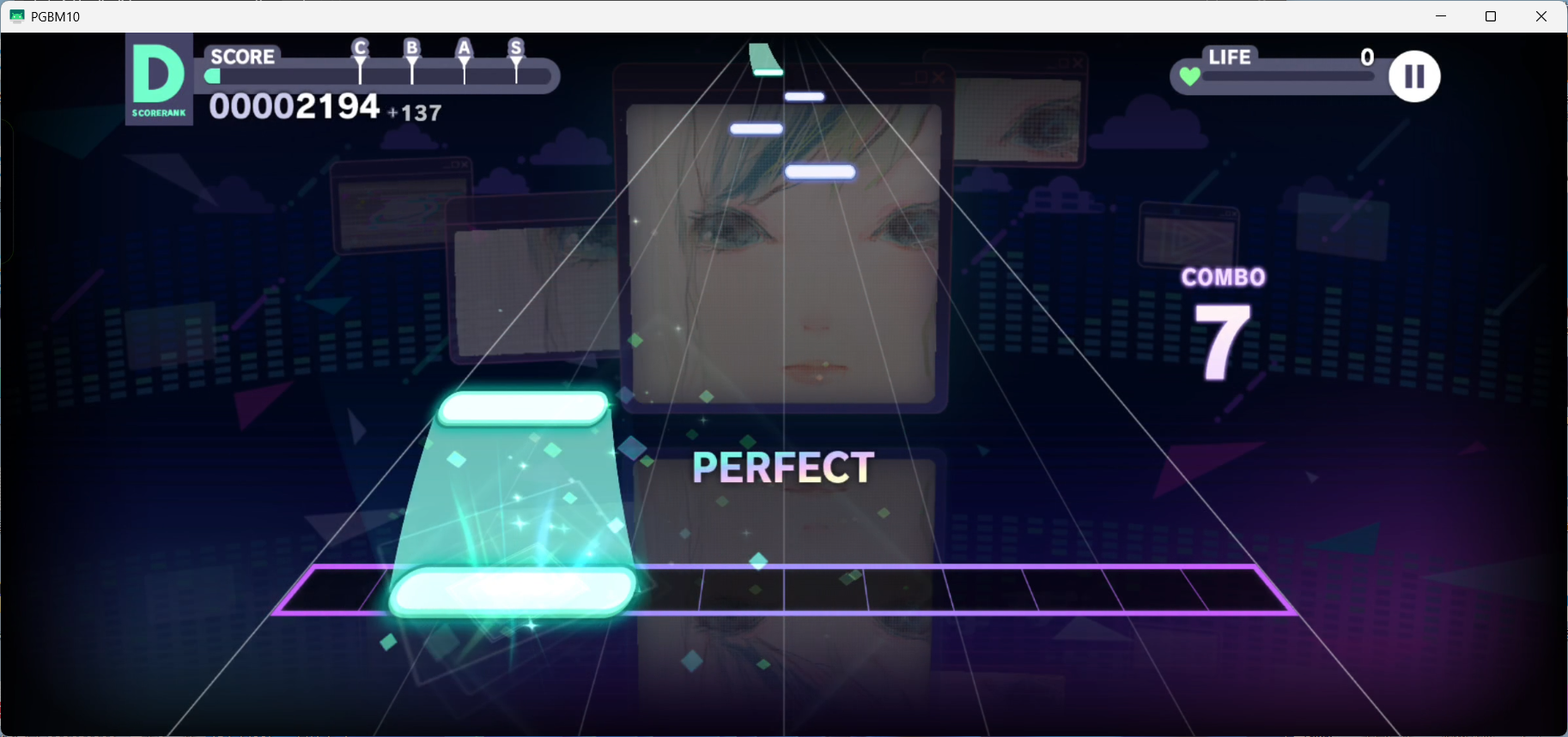hold: (392, 429, 634, 570), (749, 44, 781, 68)
tap: (388, 566, 635, 618), (438, 391, 607, 430), (785, 164, 857, 181), (731, 123, 783, 136), (785, 92, 824, 102), (753, 69, 783, 76)
